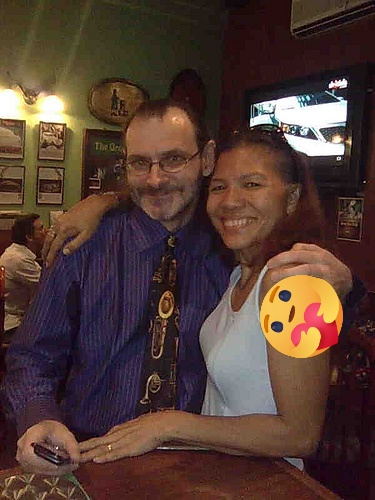care: (260, 275, 343, 358)
